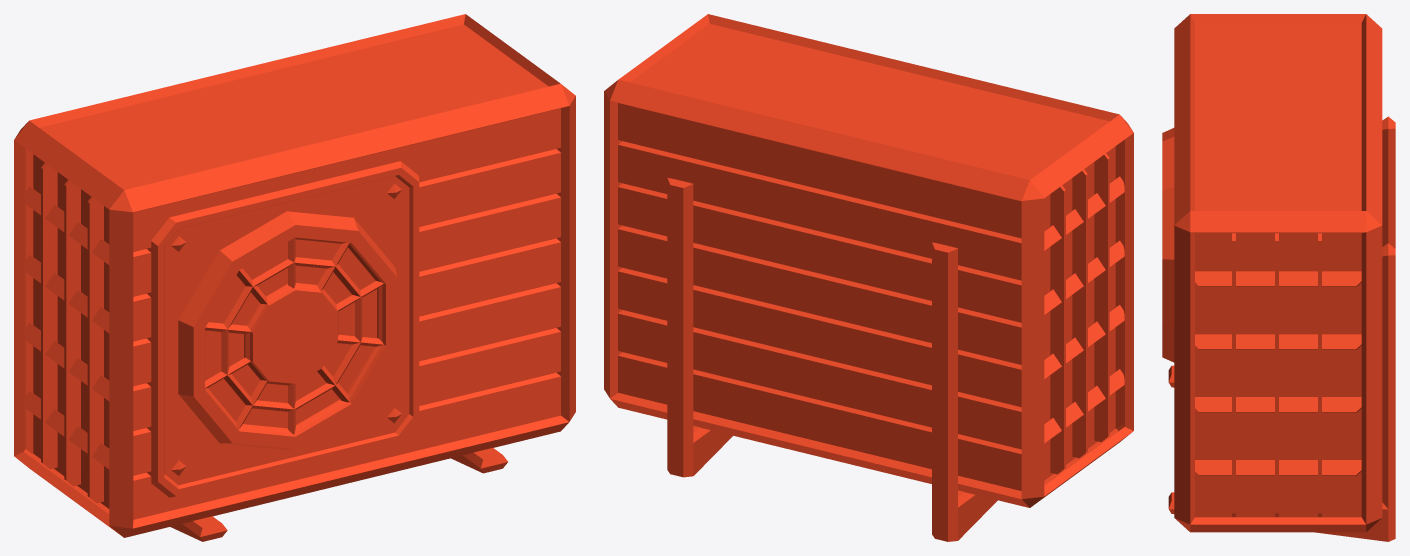
Rendered from SM_AC_E_City.fbx.
The picture shows the model from 3 angles, left to right: view 1: azimuth 30°, elevation 25°; view 2: azimuth 150°, elevation 25°; view 3: azimuth 270°, elevation 25°; orthographic projection. The views are drawn at different scales.
Parts seen in each view (by area): view 1: SM_AC_E_City; view 2: SM_AC_E_City; view 3: SM_AC_E_City.
Part boxes in pixels (box(x1,y1,x2,y2)): SM_AC_E_City: box(14, 14, 575, 541); SM_AC_E_City: box(604, 14, 1133, 541); SM_AC_E_City: box(1162, 14, 1395, 541).
Bounding box in the file's own units: 1.1 × 0.8782 × 0.5153.
